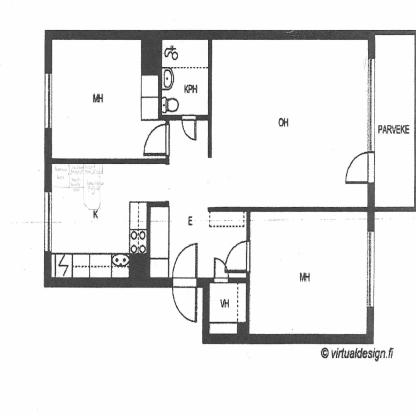door: (170, 235, 201, 326), (341, 148, 374, 190), (142, 121, 172, 163), (223, 238, 250, 275), (213, 254, 231, 288), (180, 112, 198, 144)
window: (367, 55, 375, 149), (366, 231, 374, 308), (44, 192, 52, 249), (44, 73, 52, 128)
zone: (53, 120, 245, 276), (212, 41, 367, 208), (51, 37, 169, 160), (251, 210, 365, 333), (374, 33, 414, 208), (163, 38, 208, 115)
